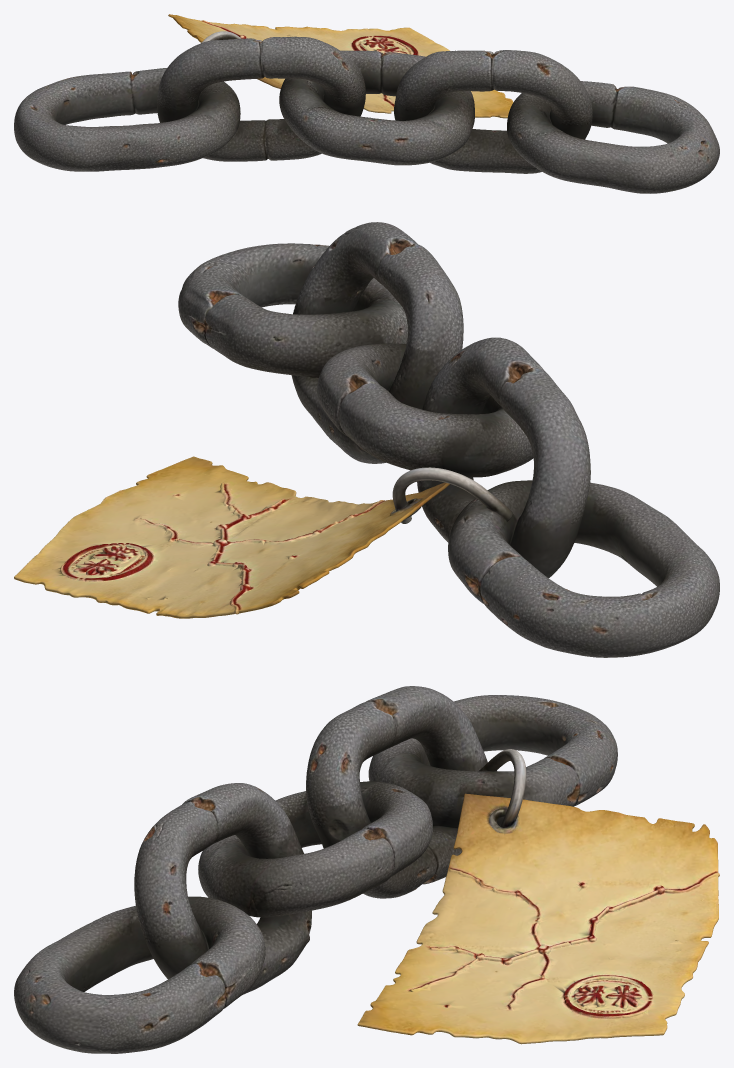
Rendered from luding-chain.glb.
The picture shows the model from 3 angles, top to bottom: view 1: azimuth 30°, elevation 25°; view 2: azimuth 150°, elevation 25°; view 3: azimuth 270°, elevation 25°; orthographic projection. The views are drawn at different scales.
Visible parts, largest first — view 1: tripo_node_09c6e983-1612-4055-a4ef-401f058c94a4; view 2: tripo_node_09c6e983-1612-4055-a4ef-401f058c94a4; view 3: tripo_node_09c6e983-1612-4055-a4ef-401f058c94a4.
Boxes of the visible parts, left/top/right/bottom form: tripo_node_09c6e983-1612-4055-a4ef-401f058c94a4: left=14, top=14, right=719, bottom=193; tripo_node_09c6e983-1612-4055-a4ef-401f058c94a4: left=14, top=222, right=719, bottom=657; tripo_node_09c6e983-1612-4055-a4ef-401f058c94a4: left=14, top=686, right=719, bottom=1053.
Bounding box in the file's own units: 0.9799 × 0.2491 × 0.9016.
1 material, 1 textured.
